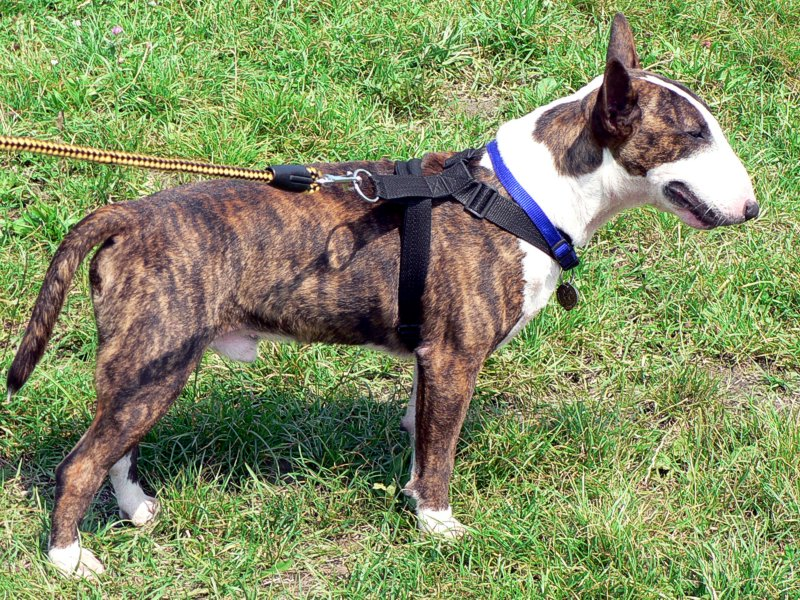bull_terrier: (4, 10, 760, 584)
